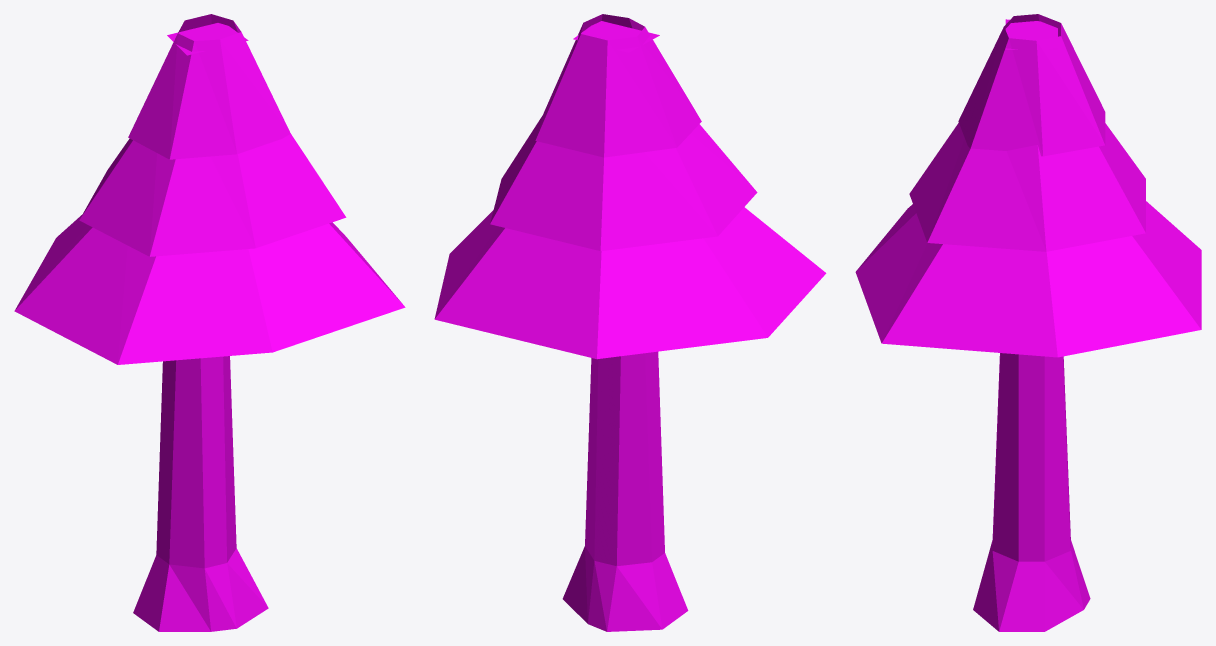
File: totemtree2.obj
The picture shows the model from 3 angles, left to right: view 1: azimuth 30°, elevation 25°; view 2: azimuth 150°, elevation 25°; view 3: azimuth 270°, elevation 25°; orthographic projection.
Parts seen in each view (by area): view 1: totemtree2_back; view 2: totemtree2_back; view 3: totemtree2_back.
Part boxes in pixels (<box>): totemtree2_back: <box>14,14,405,631</box>; totemtree2_back: <box>434,14,826,631</box>; totemtree2_back: <box>855,14,1201,631</box>.
Size of the model in its own units: 2.32 by 3.94 by 2.12.
